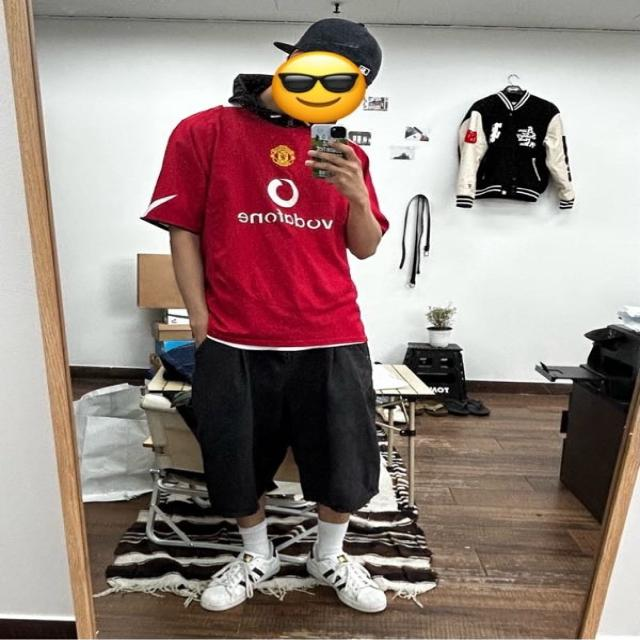shortpants: (190, 332, 378, 516)
shortsleeve: (139, 97, 391, 349)
